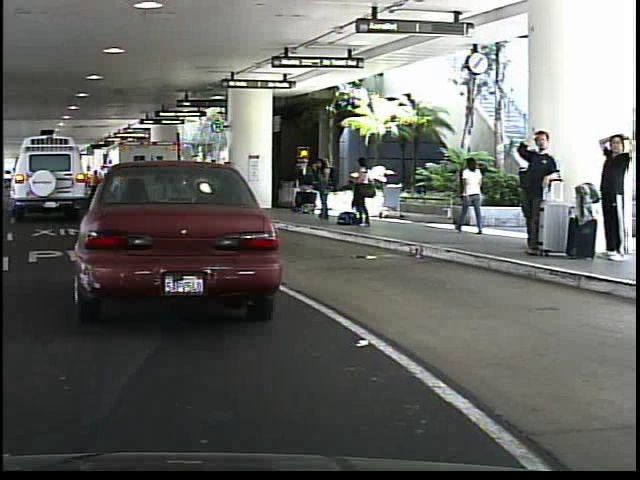person: (511, 123, 559, 257), (592, 124, 631, 265), (450, 154, 489, 235), (346, 156, 372, 228)
